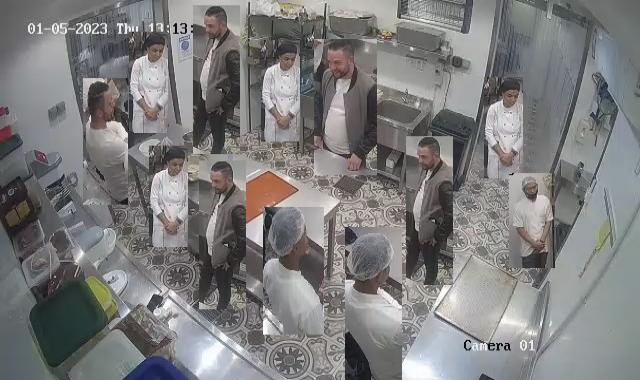hairnet: (349, 231, 392, 291), (266, 205, 304, 261), (520, 176, 538, 195)
no_hairnet: (85, 82, 111, 118), (326, 41, 356, 71), (416, 138, 442, 167), (209, 163, 232, 192), (203, 7, 226, 34), (274, 42, 298, 67), (500, 79, 524, 102), (144, 35, 167, 58), (165, 146, 185, 170)
